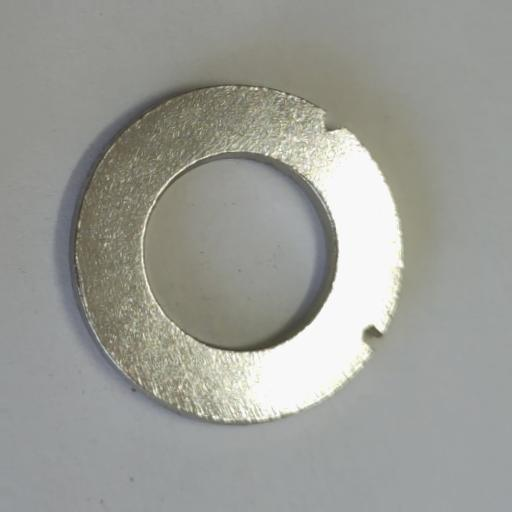burr: (360, 323, 385, 349), (320, 111, 345, 134)
